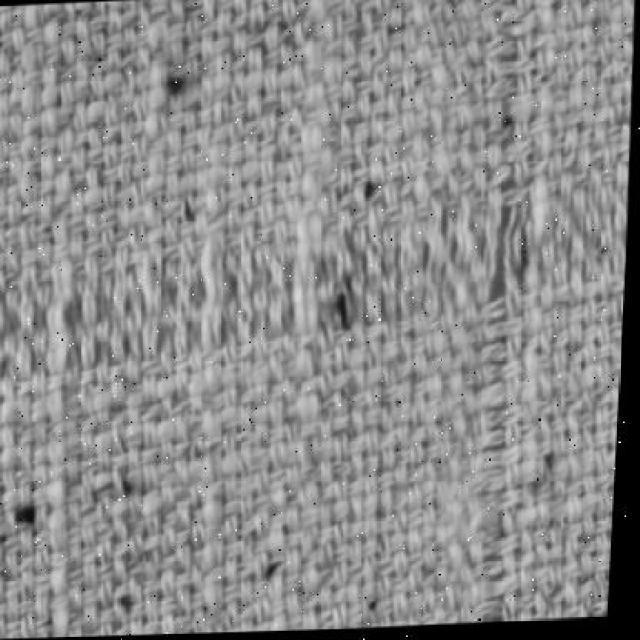stains: (6, 129, 640, 422)
